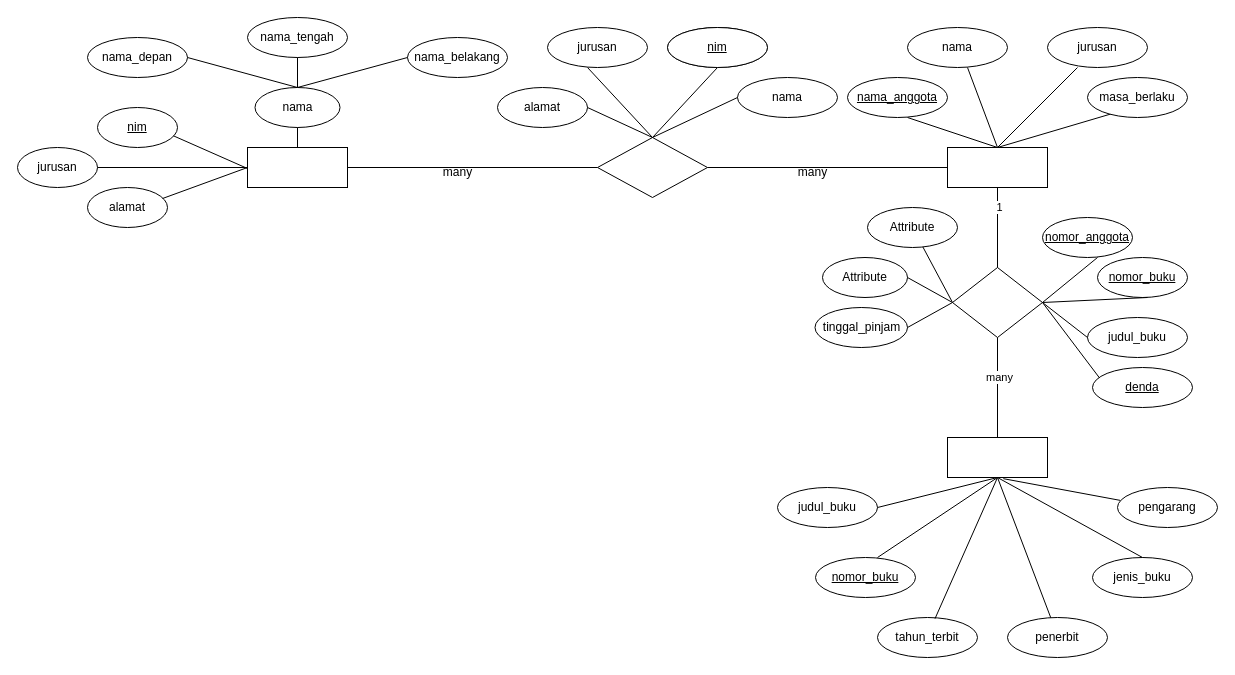
The diagram is 1235 pixels wide and 675 high, and some of its shapes have lost their labels. Here are the shapes that lost their labels. From the top down, the box of each, then its label:
(246, 146, 348, 188): mahasiswa
(596, 136, 708, 198): mendaftar
(946, 146, 1048, 188): anggota perpustakaan
(952, 266, 1042, 338): peminjaman
(946, 436, 1048, 478): buku
